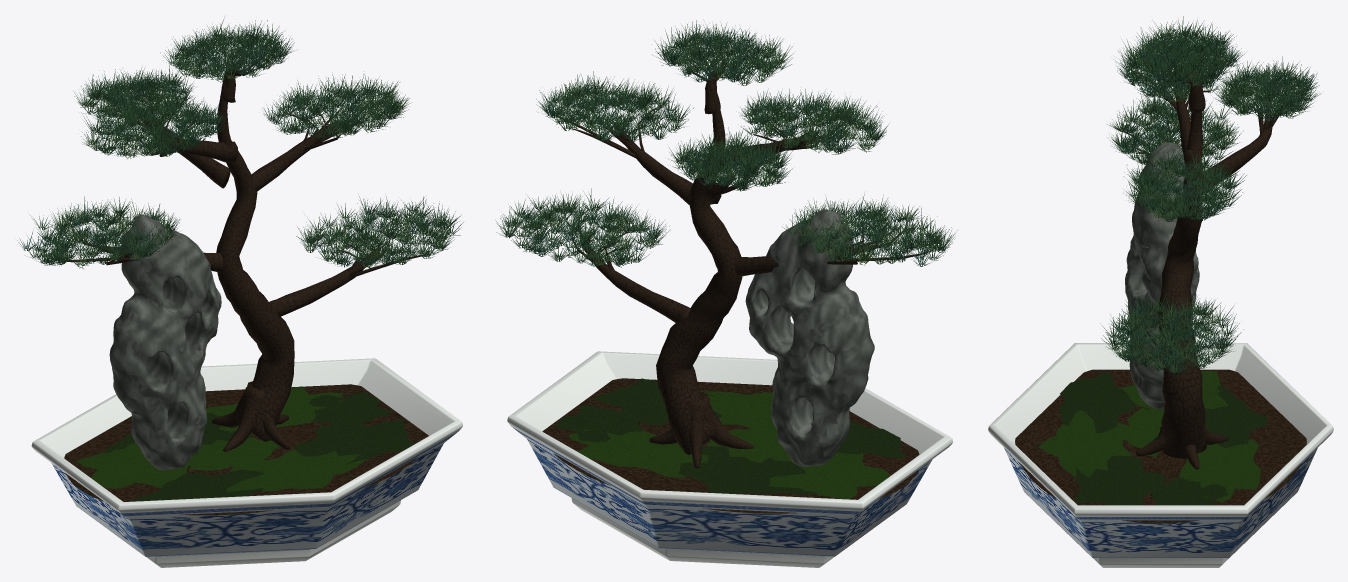
The model's file is gpt-xiaopenjing-v1.glb.
3 views of the same model, side by side, from view 1: azimuth 30°, elevation 25°; view 2: azimuth 150°, elevation 25°; view 3: azimuth 270°, elevation 25° (orthographic). The views are drawn at different scales.
Parts seen in each view (by area): view 1: 独立松针云片, 六角青花盆及完整口沿, 五孔太湖石, 不规则深浅薄苔, 虬曲主干, 土面; view 2: 独立松针云片, 六角青花盆及完整口沿, 五孔太湖石, 不规则深浅薄苔, 虬曲主干, 土面; view 3: 独立松针云片, 六角青花盆及完整口沿, 不规则深浅薄苔, 虬曲主干, 土面, 五孔太湖石.
Part boxes in pixels (<box>): 独立松针云片: <box>17,18,463,269</box>; 六角青花盆及完整口沿: <box>31,358,462,567</box>; 五孔太湖石: <box>109,214,221,470</box>; 不规则深浅薄苔: <box>76,386,414,501</box>; 虬曲主干: <box>50,45,431,451</box>; 土面: <box>64,384,428,515</box>; 独立松针云片: <box>496,20,957,267</box>; 六角青花盆及完整口沿: <box>507,351,952,567</box>; 五孔太湖石: <box>745,209,874,467</box>; 不规则深浅薄苔: <box>554,378,905,499</box>; 虬曲主干: <box>556,45,927,468</box>; 土面: <box>542,378,919,513</box>; 独立松针云片: <box>1100,16,1320,374</box>; 六角青花盆及完整口沿: <box>988,343,1333,567</box>; 不规则深浅薄苔: <box>1038,371,1268,505</box>; 虬曲主干: <box>1123,66,1279,469</box>; 土面: <box>1015,369,1306,523</box>; 五孔太湖石: <box>1125,142,1199,409</box>.
Bounding box in the file's own units: 0.4 × 0.42 × 0.2793.
11 materials, 6 textured.
